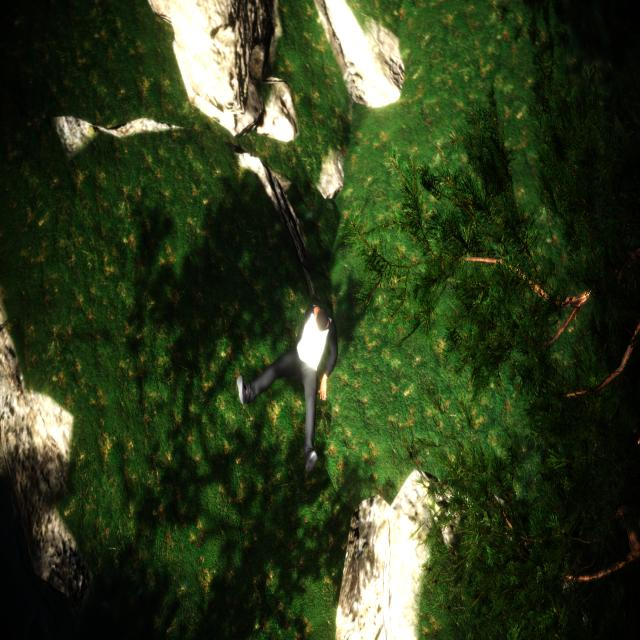Human: (233, 296, 340, 480)
